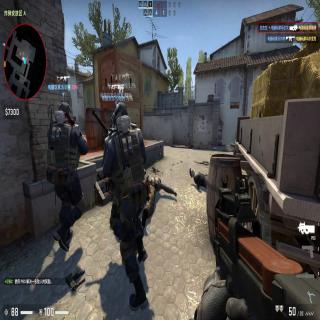CT-Body: (104, 104, 150, 310), (48, 102, 87, 250)
CT-Head: (111, 103, 130, 127), (59, 102, 71, 122)
